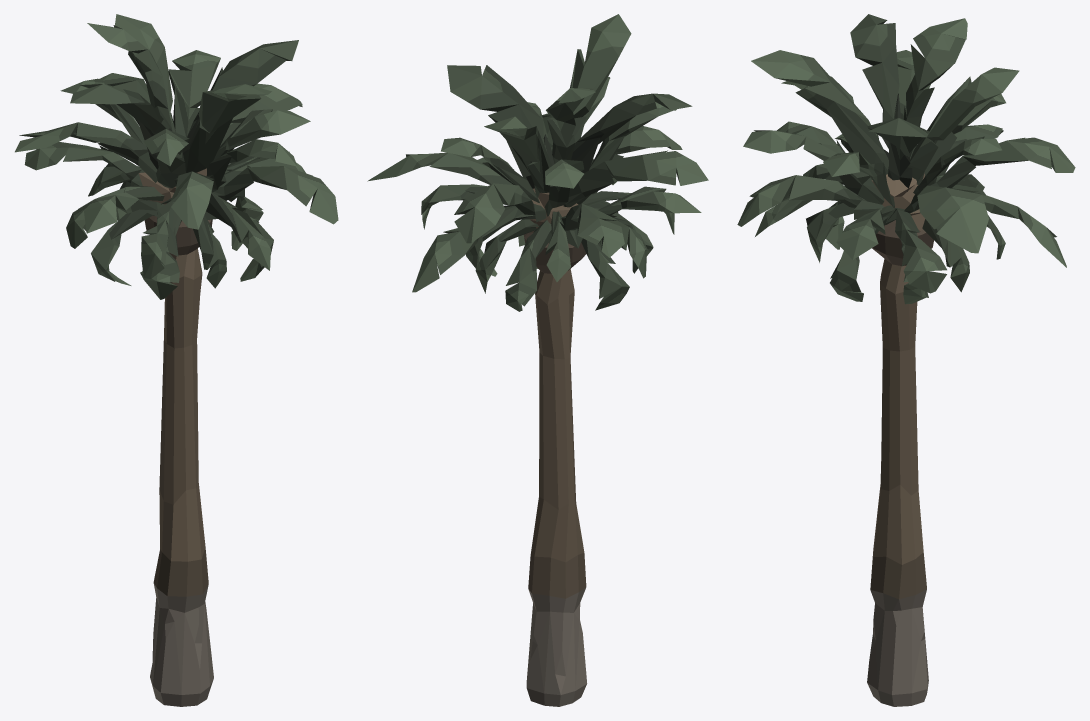
File: SM_Env_Tree_Large_03.fbx
3 views of the same model, side by side, from view 1: azimuth 30°, elevation 25°; view 2: azimuth 150°, elevation 25°; view 3: azimuth 270°, elevation 25° (orthographic). The views are drawn at different scales.
Parts seen in each view (by area): view 1: SM_Env_Tree_Large_03; view 2: SM_Env_Tree_Large_03; view 3: SM_Env_Tree_Large_03.
Part boxes in pixels (left/top/right/bottom): SM_Env_Tree_Large_03: left=15, top=14, right=338, bottom=706; SM_Env_Tree_Large_03: left=367, top=14, right=708, bottom=706; SM_Env_Tree_Large_03: left=737, top=14, right=1075, bottom=706.
Bounding box in the file's own units: 771 × 1538 × 721.
